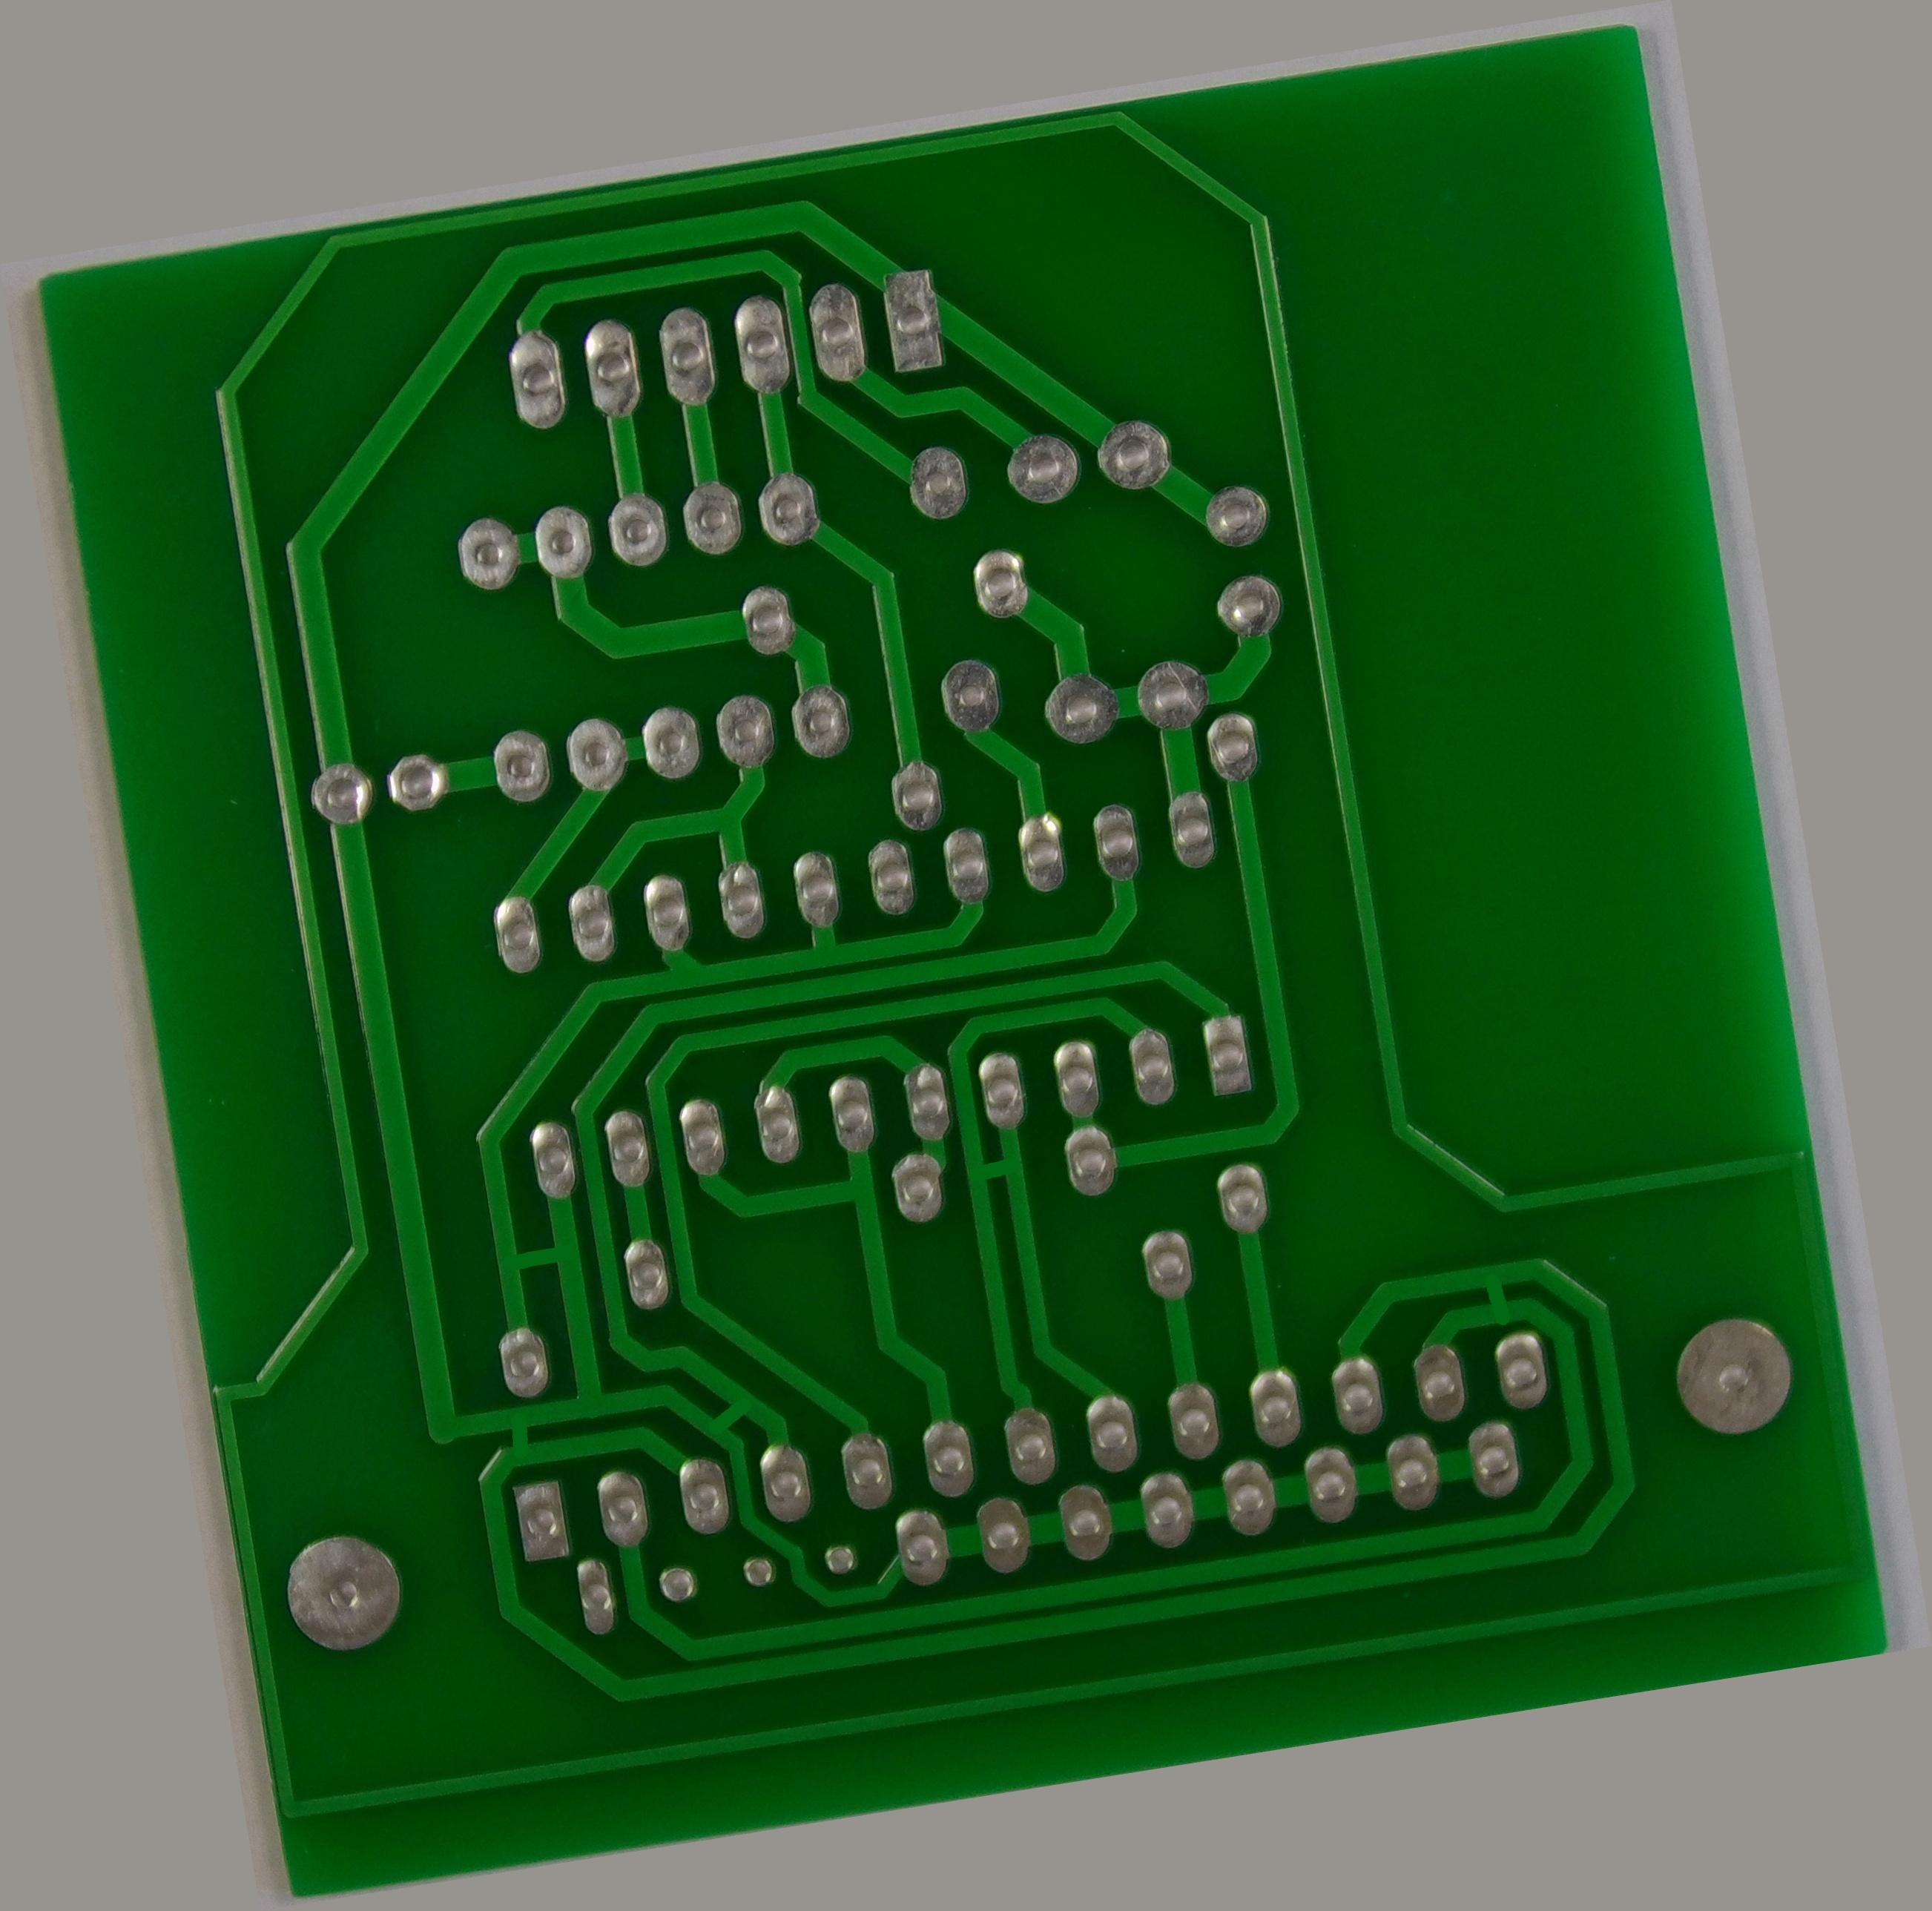short: (366, 1188, 486, 1253), (565, 1393, 660, 1470), (1463, 1386, 1535, 1482), (339, 1372, 411, 1456), (913, 1171, 1001, 1234)
